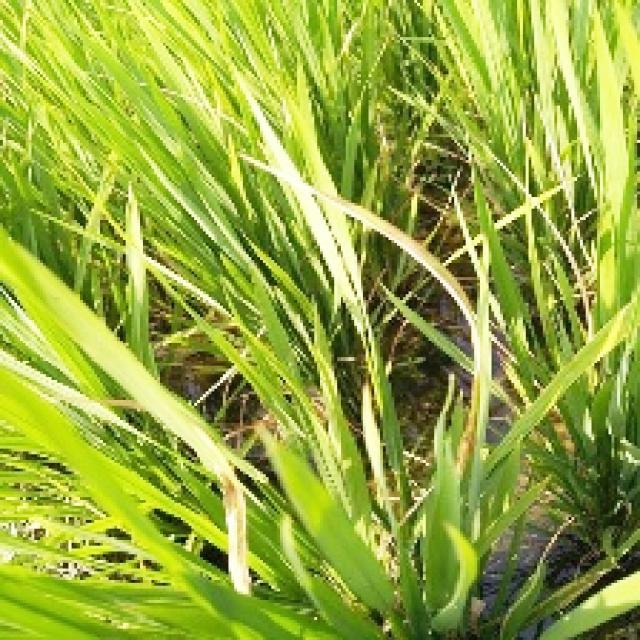health: (0, 0, 312, 242)
